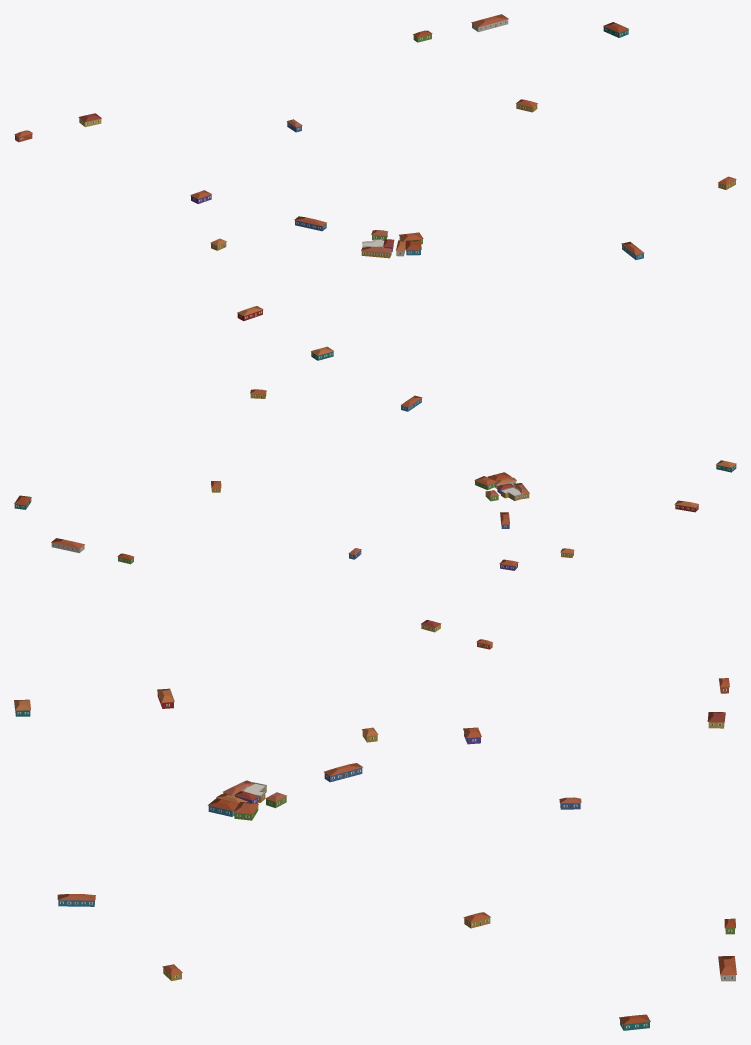
File: msb_sannicolas_20_21.glb
The picture shows the model from 3 angles, top to bottom: view 1: azimuth 30°, elevation 25°; view 2: azimuth 150°, elevation 25°; view 3: azimuth 270°, elevation 25°; orthographic projection. The views are drawn at different scales.
Visible parts, largest first — view 1: msb_sannicolas_20_21_lod0; view 2: msb_sannicolas_20_21_lod0; view 3: msb_sannicolas_20_21_lod0.
Part boxes in pixels (<box>): msb_sannicolas_20_21_lod0: <box>14,14,736,360</box>; msb_sannicolas_20_21_lod0: <box>14,389,736,649</box>; msb_sannicolas_20_21_lod0: <box>14,678,736,1030</box>.
Size of what is drawn, in the model's own units: 397 by 18.77 by 351.
Materials: 3 (1 with a texture image).
